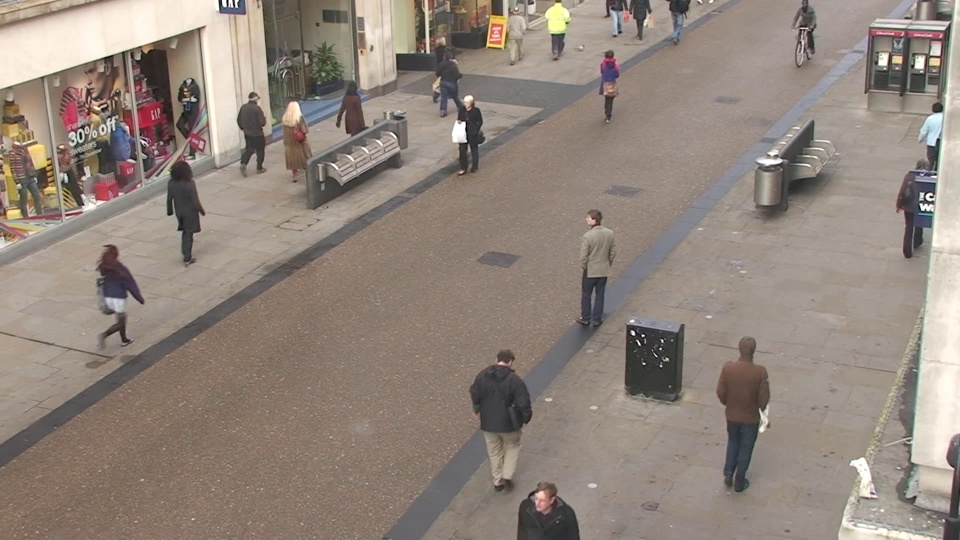pedestrian: (717, 329, 771, 480), (481, 338, 530, 490), (91, 239, 146, 365), (575, 203, 613, 324), (165, 158, 208, 262), (909, 97, 955, 193), (515, 470, 574, 540), (279, 97, 313, 185), (239, 87, 272, 172), (455, 91, 486, 180), (337, 79, 368, 164), (435, 48, 462, 124), (596, 47, 622, 124), (427, 35, 453, 107), (505, 2, 528, 67)
